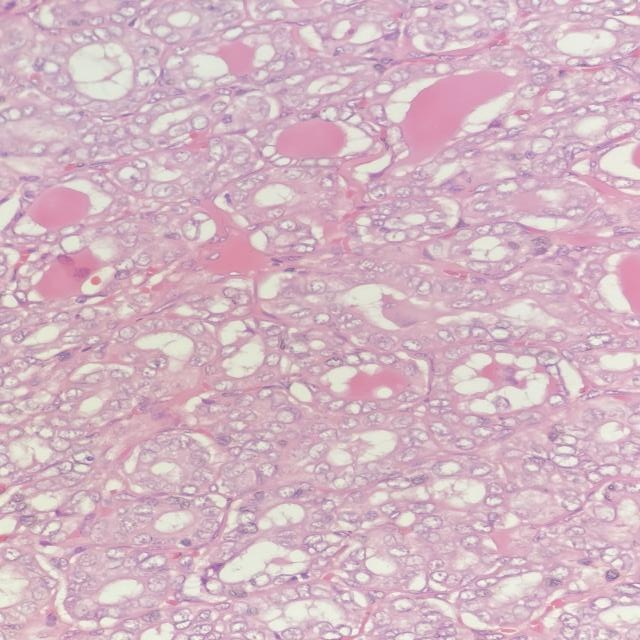TC: (171, 212, 212, 250), (106, 161, 151, 190), (525, 344, 571, 372), (509, 76, 549, 108), (363, 328, 404, 359), (425, 457, 468, 485), (221, 146, 259, 177), (267, 478, 307, 507), (77, 361, 111, 394), (175, 314, 214, 342), (461, 255, 499, 282), (413, 511, 450, 537), (377, 225, 415, 250), (485, 322, 522, 347), (368, 76, 406, 99), (336, 397, 370, 422), (127, 467, 165, 489), (264, 408, 307, 427), (186, 110, 221, 133), (137, 354, 173, 376), (447, 434, 478, 456), (258, 203, 286, 225)
